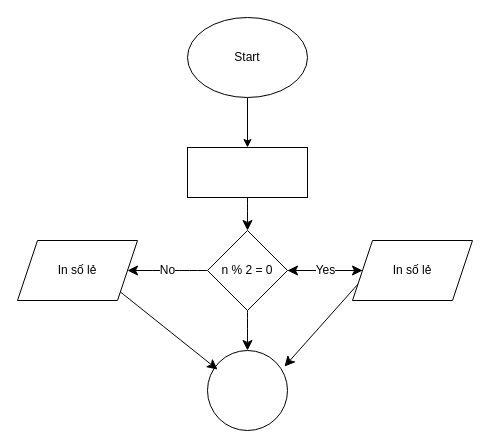
The diagram is 490 pixels wide and 448 high, and some of its shapes have lost their labels. The centre of each missing label's shape, as x and y in pixels:
"END" goes at point 247,390.
"Nhập n" goes at point 247,172.
